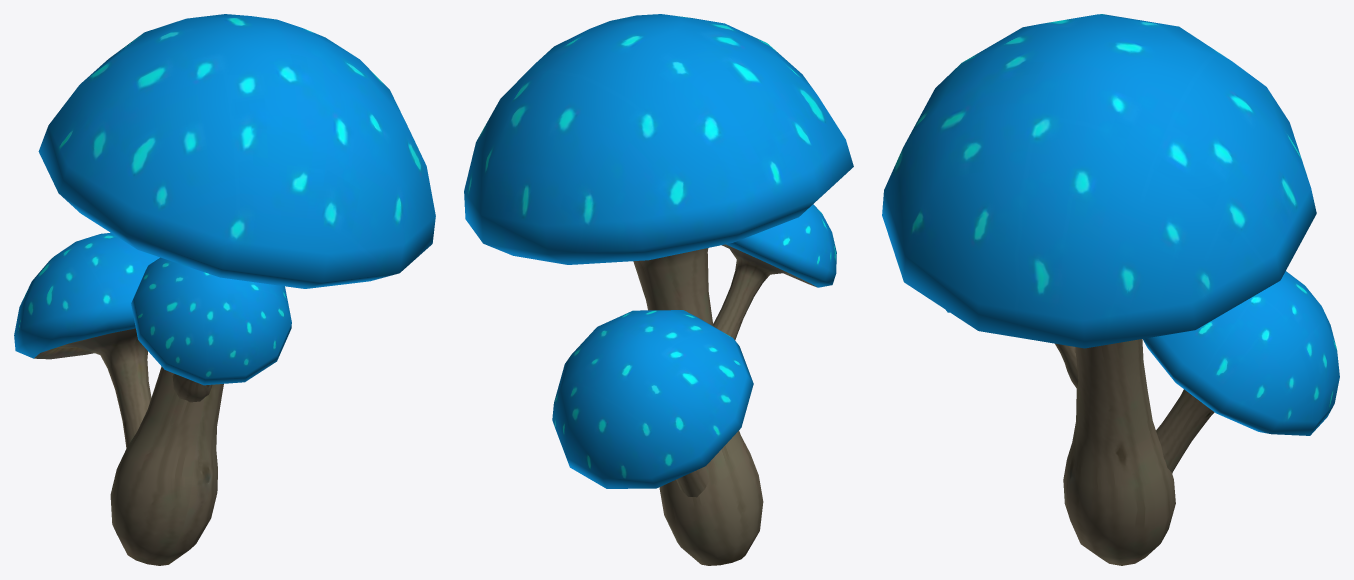
File: mushroom.glb
3 views of the same model, side by side, from view 1: azimuth 30°, elevation 25°; view 2: azimuth 150°, elevation 25°; view 3: azimuth 270°, elevation 25° (orthographic). The views are drawn at different scales.
Parts seen in each view (by area): view 1: pSphere1_lambert2_0.001, pSphere1_lambert2_0.012, pSphere1_lambert2_0.005; view 2: pSphere1_lambert2_0.001, pSphere1_lambert2_0.005, pSphere1_lambert2_0.012; view 3: pSphere1_lambert2_0.001, pSphere1_lambert2_0.005.
Boxes of the visible parts, left/top/right/bottom form: pSphere1_lambert2_0.001: left=38, top=14, right=435, bottom=565; pSphere1_lambert2_0.012: left=131, top=257, right=291, bottom=402; pSphere1_lambert2_0.005: left=14, top=232, right=159, bottom=448; pSphere1_lambert2_0.001: left=464, top=14, right=853, bottom=565; pSphere1_lambert2_0.005: left=552, top=310, right=753, bottom=497; pSphere1_lambert2_0.012: left=713, top=204, right=836, bottom=340; pSphere1_lambert2_0.001: left=882, top=14, right=1316, bottom=565; pSphere1_lambert2_0.005: left=1142, top=271, right=1339, bottom=473.
Size of the model in its own units: 3.63 by 5.23 by 3.89.
3 materials, 3 textured.
